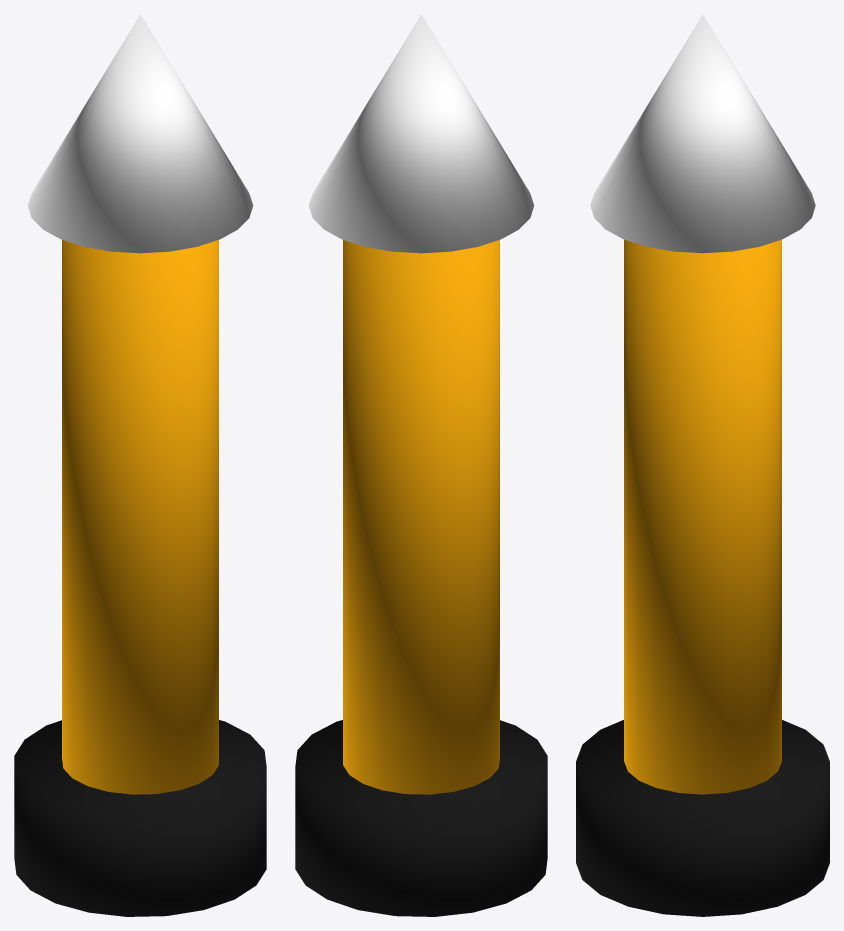
File: prop_bollard.glb
3 renders of one model, left to right at view 1: azimuth 30°, elevation 25°; view 2: azimuth 150°, elevation 25°; view 3: azimuth 270°, elevation 25°, orthographic.
Parts seen in each view (by area): view 1: small bollard body, small bollard black base, small bollard white cap; view 2: small bollard body, small bollard black base, small bollard white cap; view 3: small bollard body, small bollard black base, small bollard white cap.
Part boxes in pixels (<box>): small bollard body: <box>62,240,218,794</box>; small bollard black base: <box>14,720,266,916</box>; small bollard white cap: <box>27,14,253,253</box>; small bollard body: <box>343,240,499,794</box>; small bollard black base: <box>295,720,547,916</box>; small bollard white cap: <box>308,14,534,253</box>; small bollard body: <box>624,239,781,794</box>; small bollard black base: <box>576,720,829,916</box>; small bollard white cap: <box>590,14,815,253</box>.
Size of the model in its own units: 0.09 by 0.3325 by 0.09.
